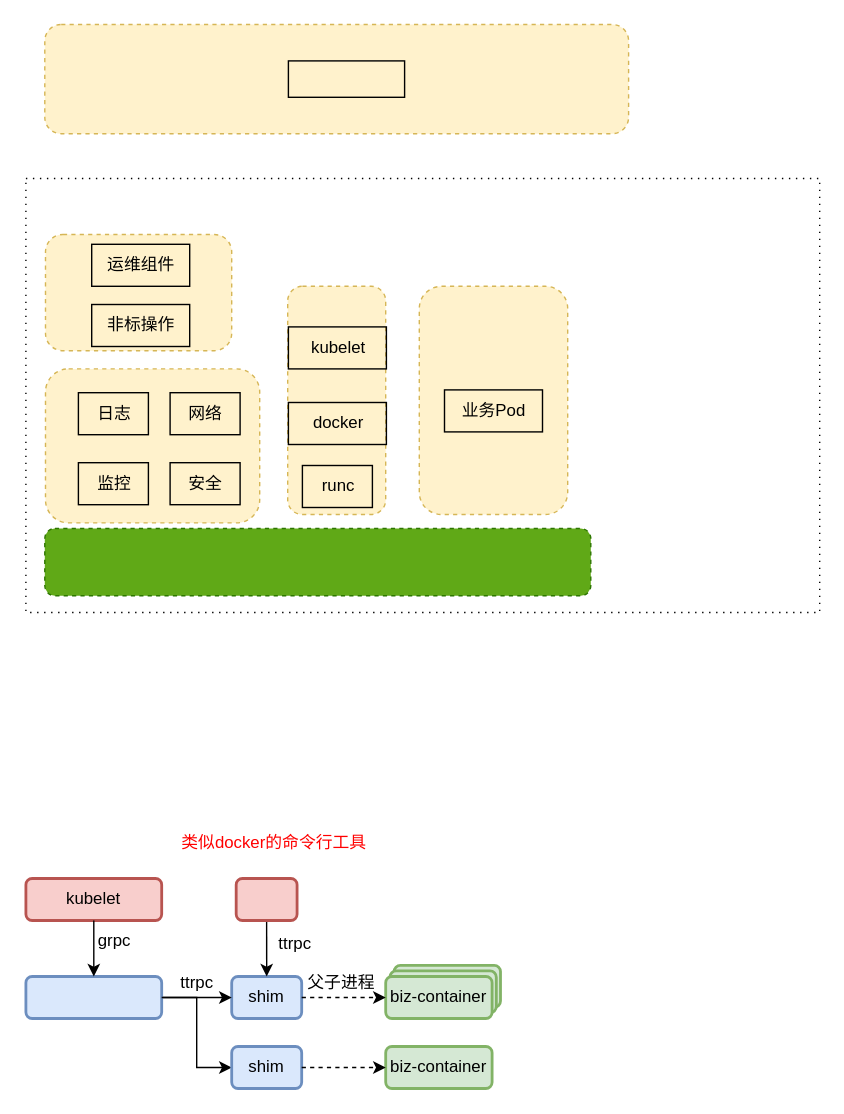
Image size: 844x1114. Some labels were removed from this diagram. The box of each missing label's shape, as (x1, y1, x2, y2) in pixels:
apiserver: (287, 59, 405, 97)
containerd: (24, 974, 162, 1019)
ctr: (234, 876, 298, 921)
操作系统内核: (43, 527, 591, 596)
